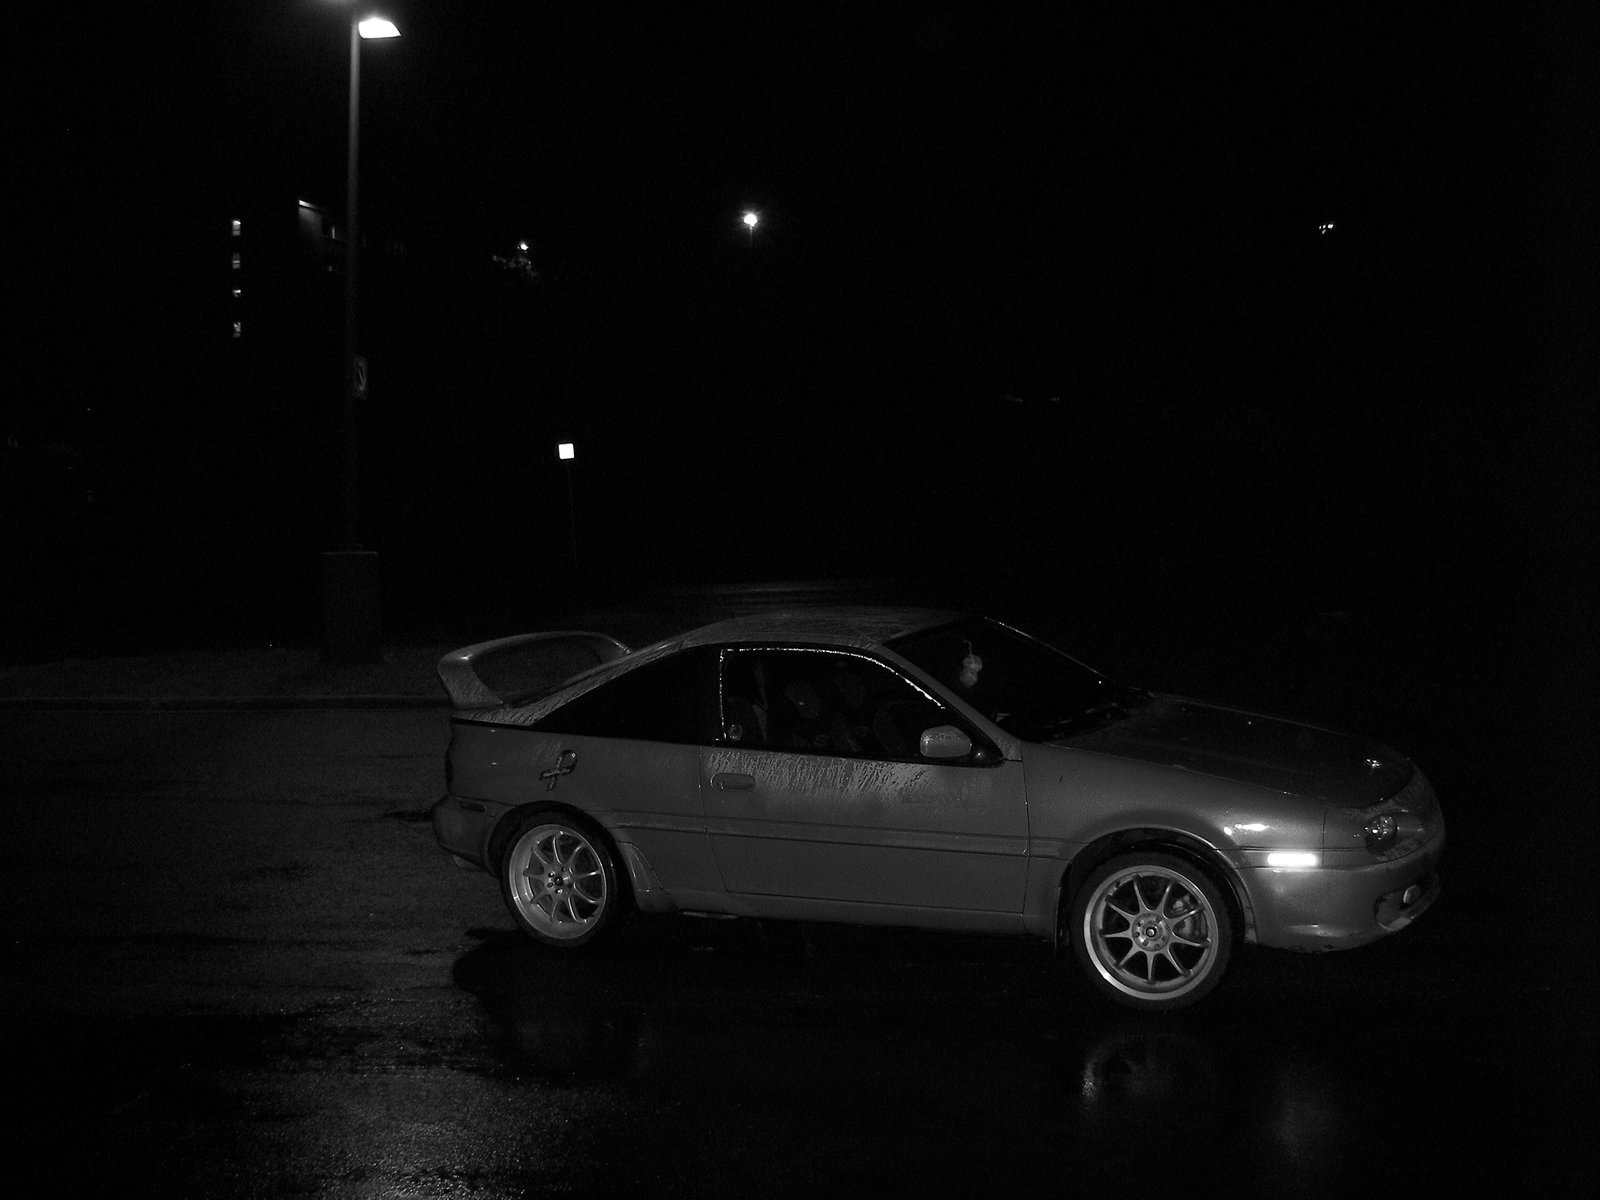car: (403, 582, 1466, 1015)
